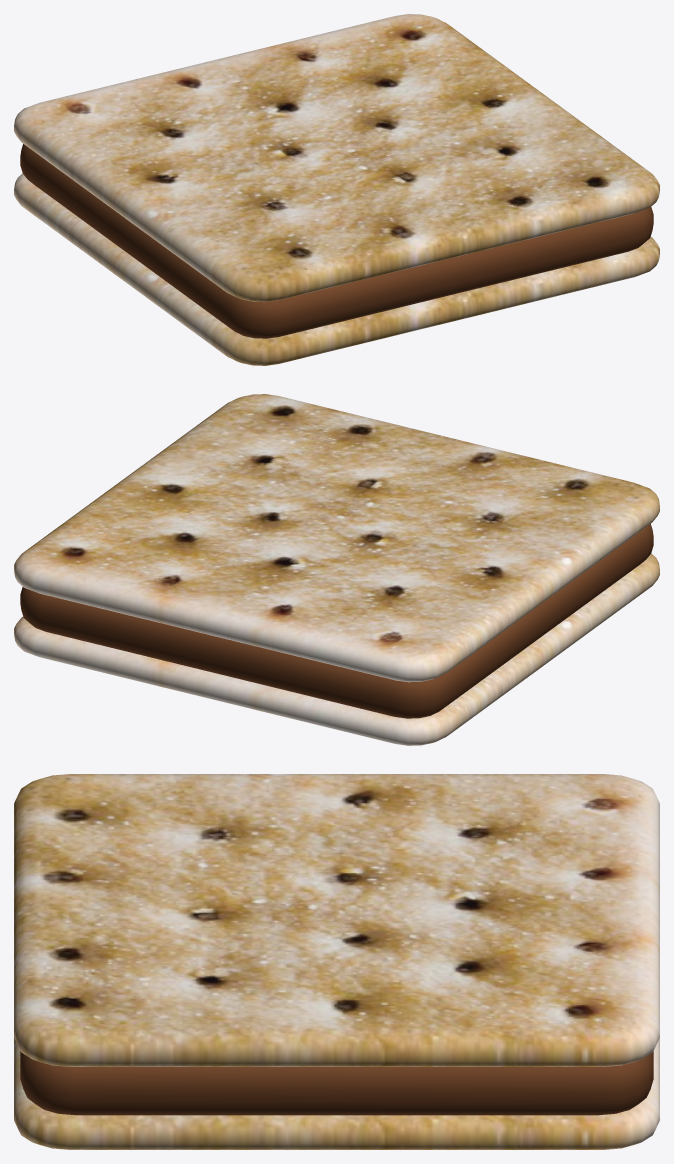
Rendered from candy_waf_29.fbx.
The picture shows the model from 3 angles, top to bottom: view 1: azimuth 30°, elevation 25°; view 2: azimuth 150°, elevation 25°; view 3: azimuth 270°, elevation 25°; orthographic projection. The views are drawn at different scales.
Parts seen in each view (by area): view 1: c_w_29; view 2: c_w_29; view 3: c_w_29.
Part boxes in pixels (box(x1,y1,x2,y2)): c_w_29: box(14, 14, 659, 365); c_w_29: box(14, 394, 659, 745); c_w_29: box(14, 774, 659, 1149).
Size of the model in its own units: 179 by 35.68 by 179.
